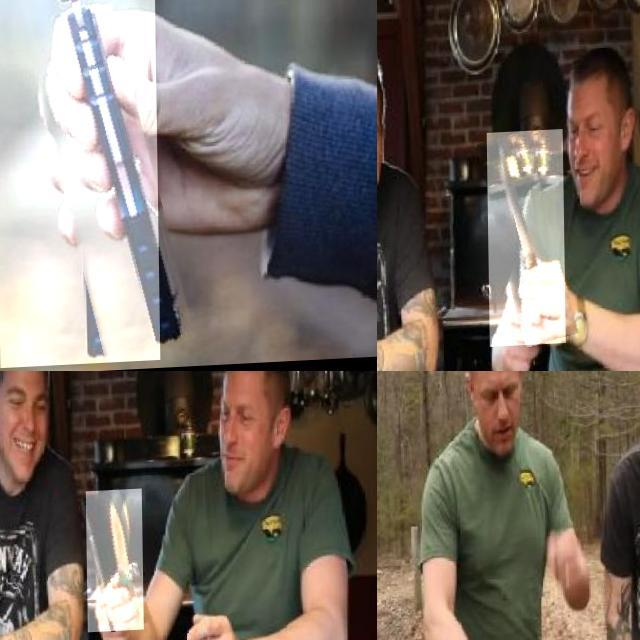-: (0, 0, 158, 369), (487, 134, 565, 351), (85, 492, 143, 636)
